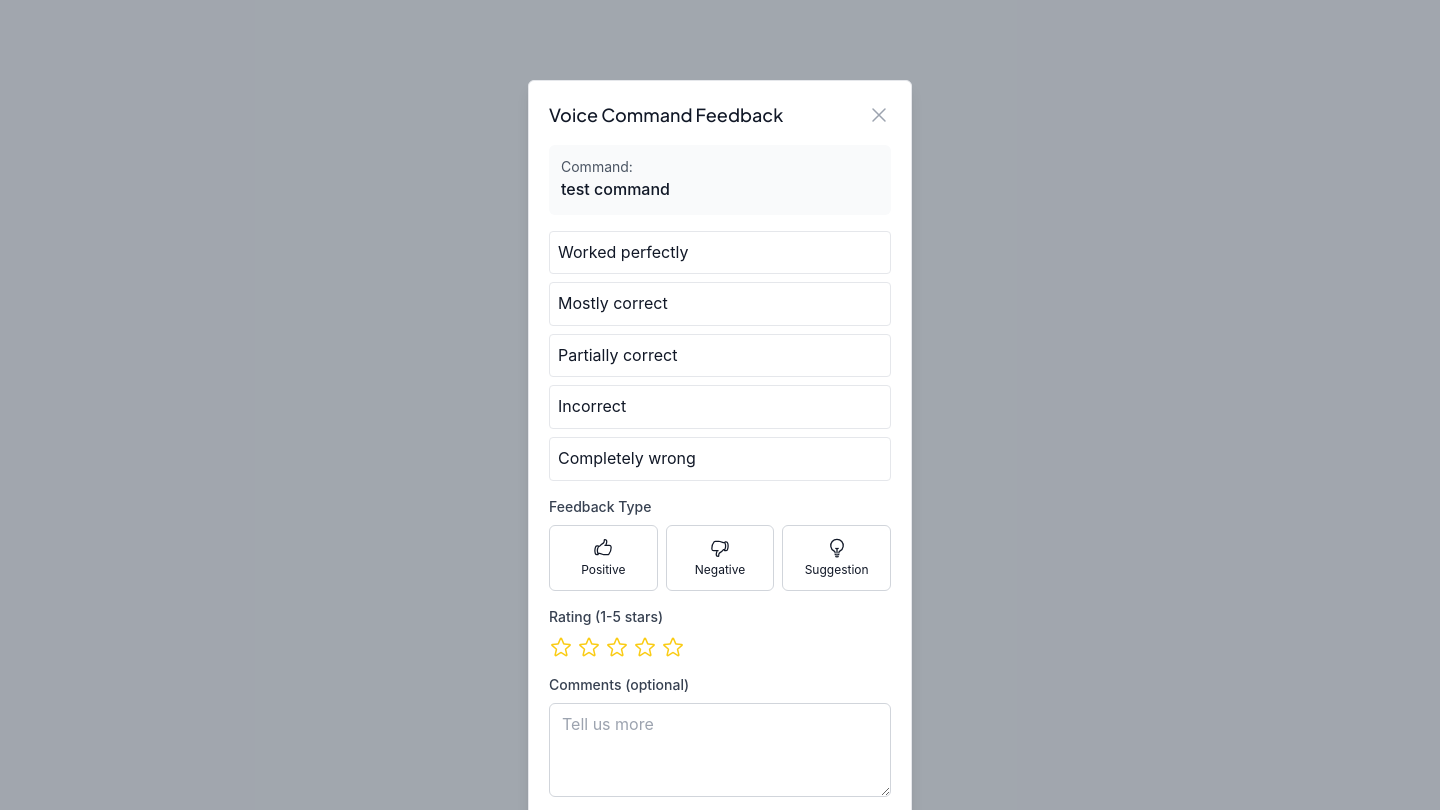
it: VoiceFeedbackModal - State Debugging › should debug state changes step by step
Click the button "Positive".
click(603, 558)  # box top-left (549, 525), bottom-right (658, 591)
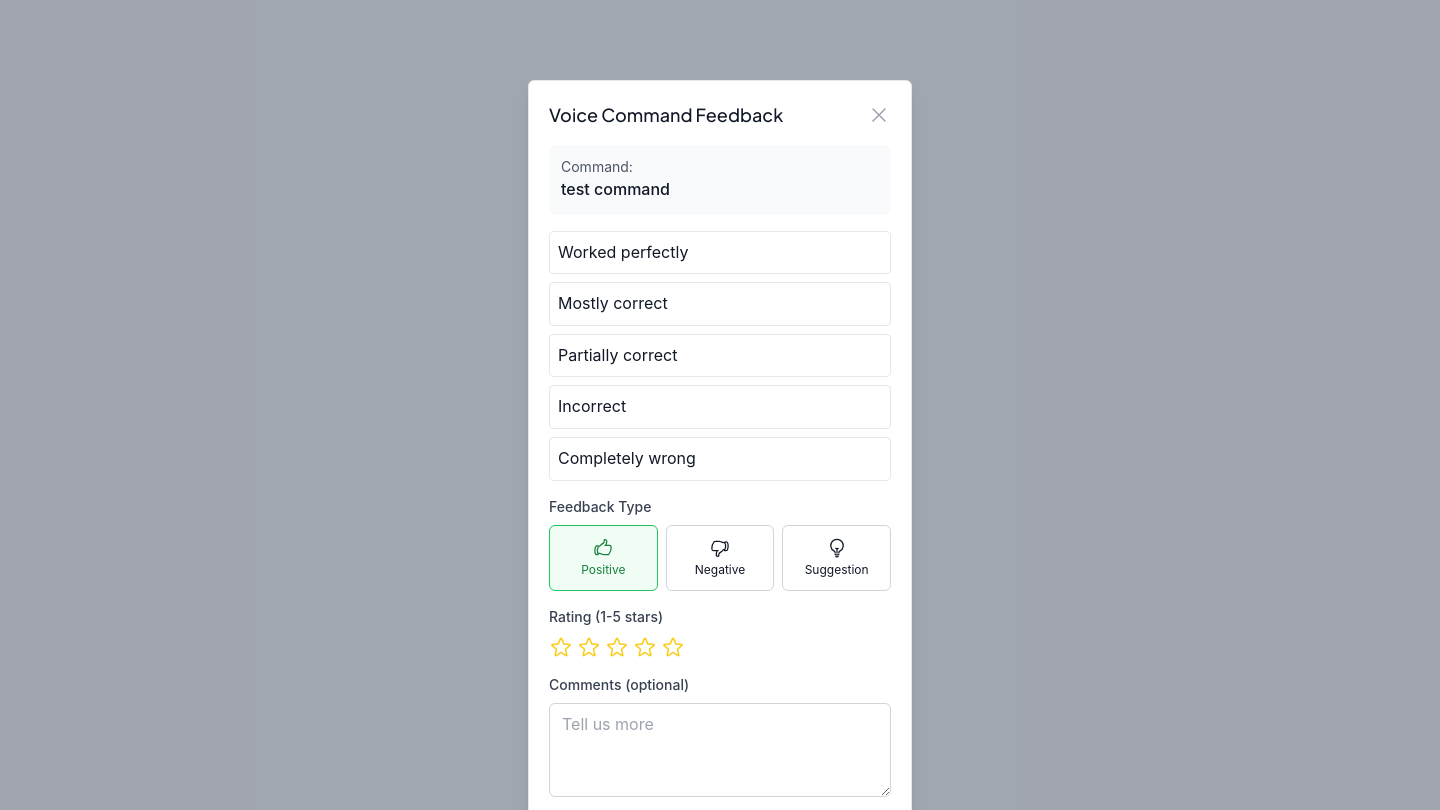
Click the button named "3 stars".
click(617, 647)  # box top-left (605, 635), bottom-right (629, 659)
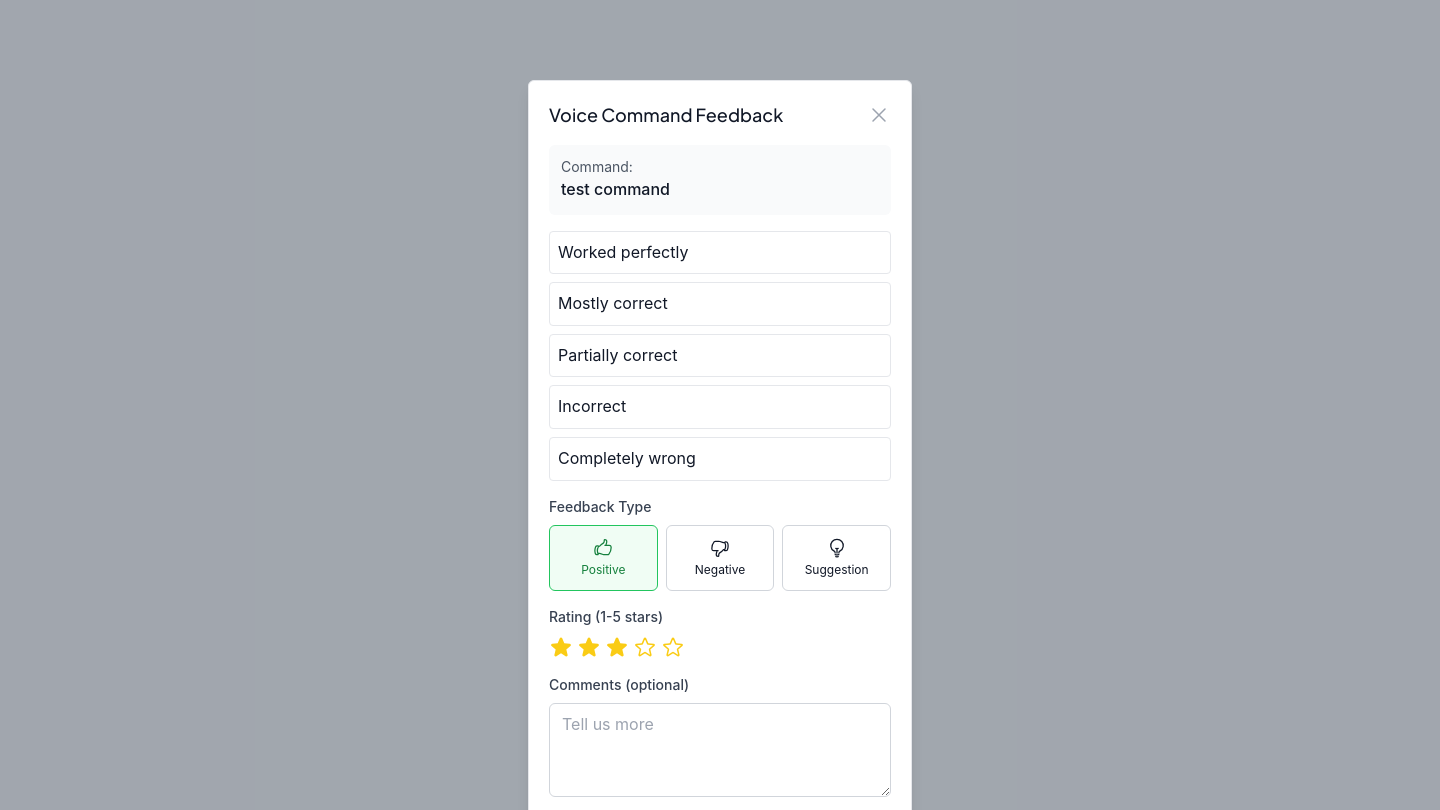
// Force re-render by triggering another event
Click the button named "3 stars".
click(617, 647)  # box top-left (605, 635), bottom-right (629, 659)
(page scrolled)
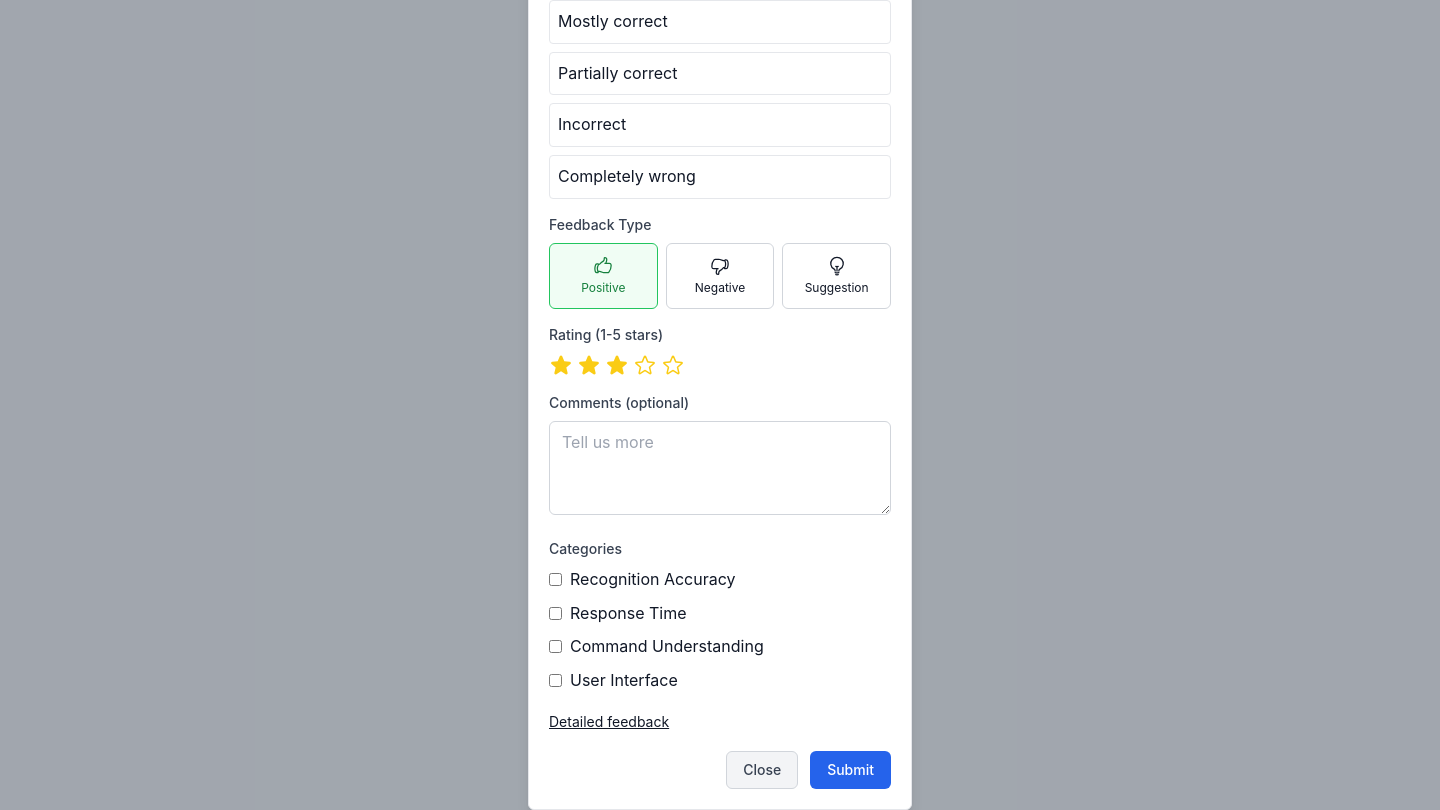
expect the button "Submit" is enabled: met, box top-left (810, 751), bottom-right (891, 789)
